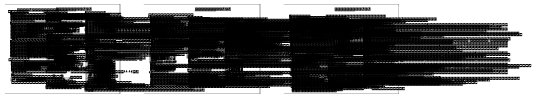corridor: (248, 39, 289, 45)
door: (65, 19, 67, 21), (77, 19, 79, 21), (65, 19, 66, 21), (66, 19, 67, 21), (77, 19, 78, 21), (78, 19, 79, 21)
exit: (75, 83, 77, 84), (110, 50, 112, 51), (56, 58, 57, 59)
fire_door: (298, 79, 300, 80), (304, 79, 306, 80), (298, 76, 300, 77), (198, 13, 200, 14), (133, 73, 135, 74), (141, 64, 143, 65), (298, 81, 299, 82), (326, 81, 327, 82), (9, 40, 10, 41), (110, 70, 111, 71), (110, 67, 111, 68), (110, 64, 111, 65), (115, 41, 116, 42), (298, 78, 300, 78), (135, 75, 137, 75), (110, 69, 111, 69), (110, 72, 111, 72)
fire_window: (56, 11, 57, 12)
room: (110, 12, 142, 37), (444, 42, 468, 70), (299, 25, 322, 36), (299, 13, 324, 22), (444, 72, 446, 76), (447, 72, 449, 75)
staircase: (61, 46, 63, 47), (57, 39, 59, 40), (81, 43, 83, 44), (299, 71, 301, 72), (56, 53, 58, 54), (64, 53, 66, 54), (56, 50, 58, 51), (56, 48, 58, 49), (113, 30, 114, 31), (81, 69, 82, 70), (81, 68, 82, 69), (63, 28, 64, 29), (71, 46, 72, 47), (83, 46, 84, 47), (453, 51, 454, 52), (57, 54, 58, 55), (74, 53, 75, 54), (110, 79, 111, 80), (110, 65, 111, 66), (113, 15, 114, 15), (110, 52, 112, 52)
wall: (197, 34, 231, 44), (80, 32, 92, 36), (223, 38, 227, 40), (223, 41, 227, 43), (223, 40, 227, 41), (451, 72, 453, 73), (455, 72, 456, 72), (67, 42, 68, 42)
